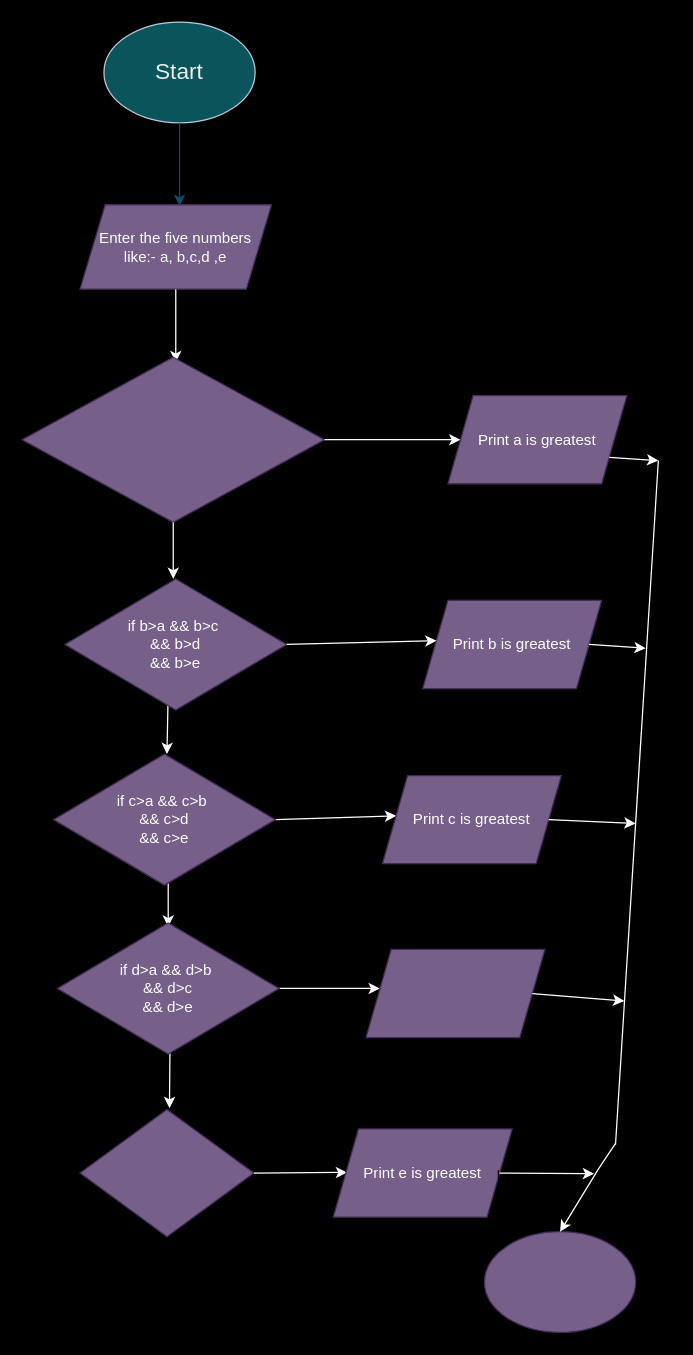
The diagram is 693 pixels wide and 1355 high, and some of its shapes have lost their labels. Here are the shapes that lost their labels. From the top down, the centre of each, then its label:
At (x=172, y=439): "if a>b && a>c && a>d &&a>e".
At (x=455, y=993): "Print d is greatest".
At (x=166, y=1172): "else".
At (x=559, y=1281): "Stop".
